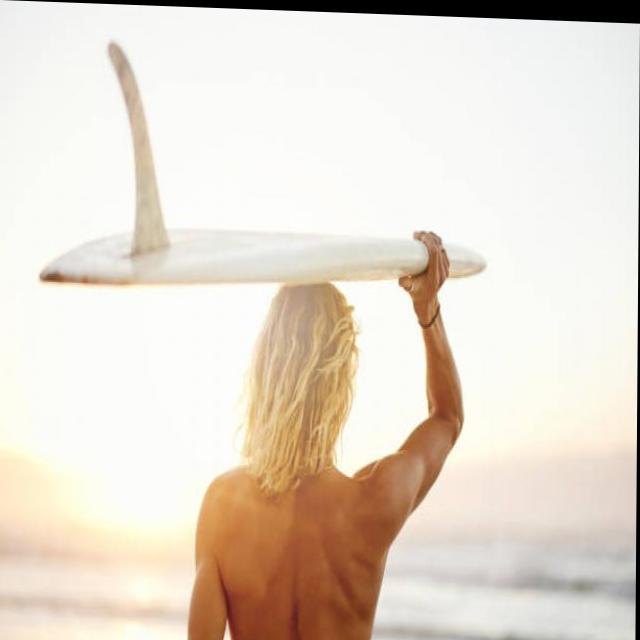no helmet: (255, 278, 359, 482)
